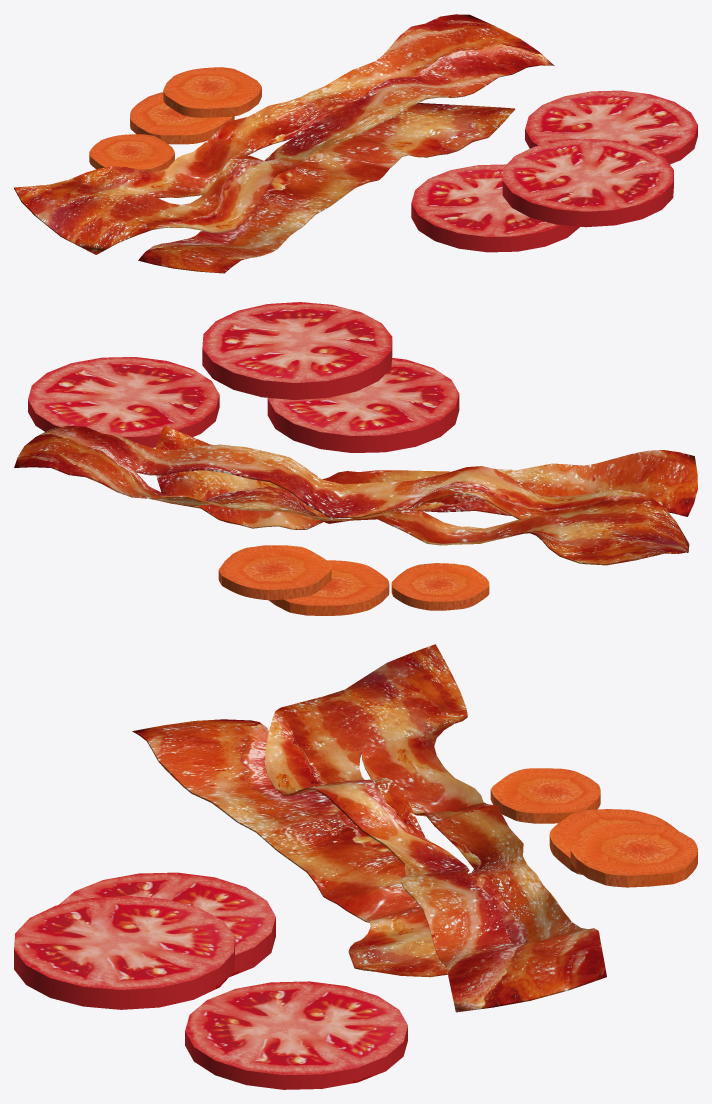
File: Food dish 2.FBX
3 renders of one model, top to bottom at view 1: azimuth 30°, elevation 25°; view 2: azimuth 150°, elevation 25°; view 3: azimuth 270°, elevation 25°, orthographic. The views are drawn at different scales.
Visible parts, largest first — view 1: bacon, tomato, carrot 3, carrot, carrot 4; view 2: bacon, tomato, carrot 3, carrot 4, carrot; view 3: bacon, tomato, carrot 3, carrot 4, carrot.
Part boxes in pixels (x1,y1,x2,y2): bacon: (14, 14, 554, 273); tomato: (411, 90, 697, 252); carrot 3: (163, 67, 261, 117); carrot: (130, 92, 234, 144); carrot 4: (89, 134, 174, 171); bacon: (14, 425, 697, 565); tomato: (28, 302, 459, 452); carrot 3: (218, 545, 331, 600); carrot 4: (391, 563, 489, 610); carrot: (269, 560, 389, 615); bacon: (132, 644, 606, 1012); tomato: (14, 872, 407, 1089); carrot 3: (570, 823, 697, 887); carrot 4: (490, 768, 600, 823); carrot: (549, 809, 677, 874).
Bounding box in the file's own units: 23.49 × 1.81 × 17.41.
Materials: 3 (3 with a texture image).
